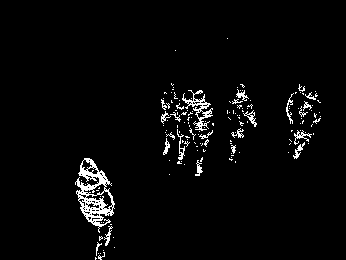person: (74, 155, 115, 260), (223, 82, 258, 164), (188, 86, 214, 179), (292, 89, 322, 161), (172, 88, 198, 166), (158, 80, 181, 158), (284, 81, 308, 144)
